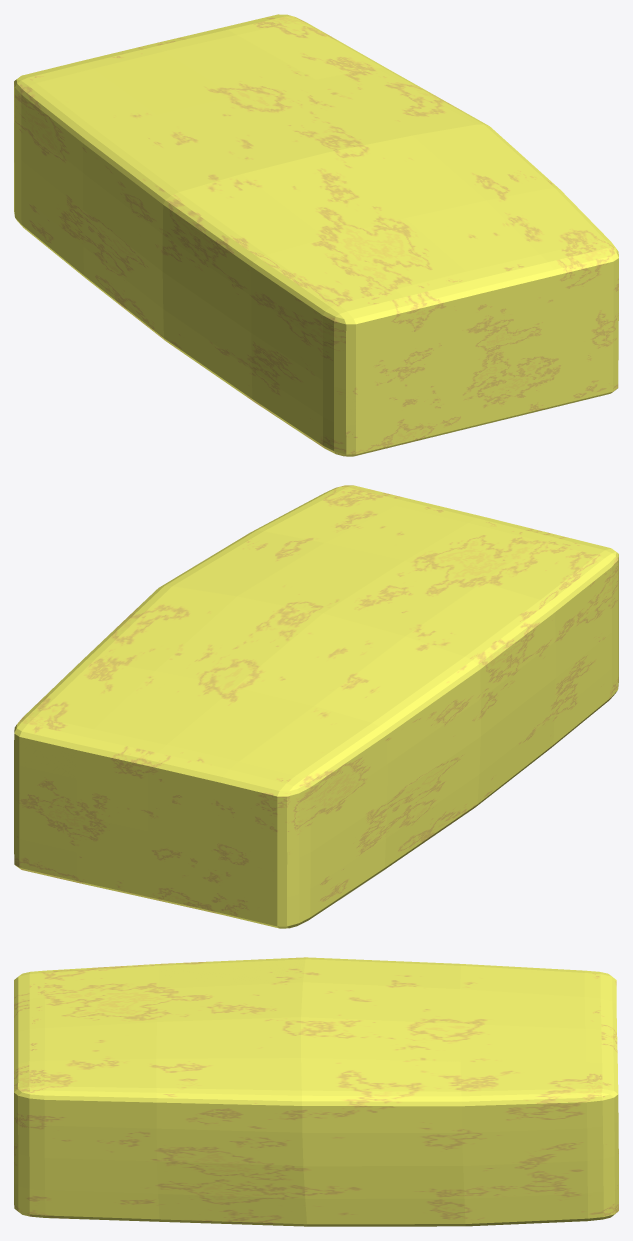
Rendered from Sponge.fbx.
3 views of the same model, one above another, from view 1: azimuth 30°, elevation 25°; view 2: azimuth 150°, elevation 25°; view 3: azimuth 270°, elevation 25° (orthographic). The views are drawn at different scales.
Parts seen in each view (by area): view 1: Cube; view 2: Cube; view 3: Cube.
Part boxes in pixels (box(x1,y1,x2,y2)): Cube: box(14, 14, 618, 456); Cube: box(14, 485, 618, 928); Cube: box(14, 957, 618, 1226).
Bounding box in the file's own units: 71.97 × 34.5 × 129.
Materials: 1 (1 with a texture image).
